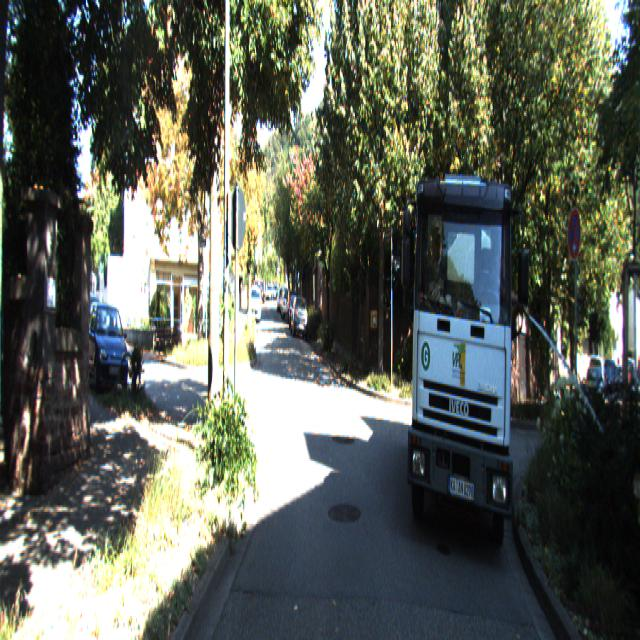Car: (404, 135, 520, 572), (84, 300, 130, 398), (290, 292, 308, 340), (250, 288, 262, 325)
